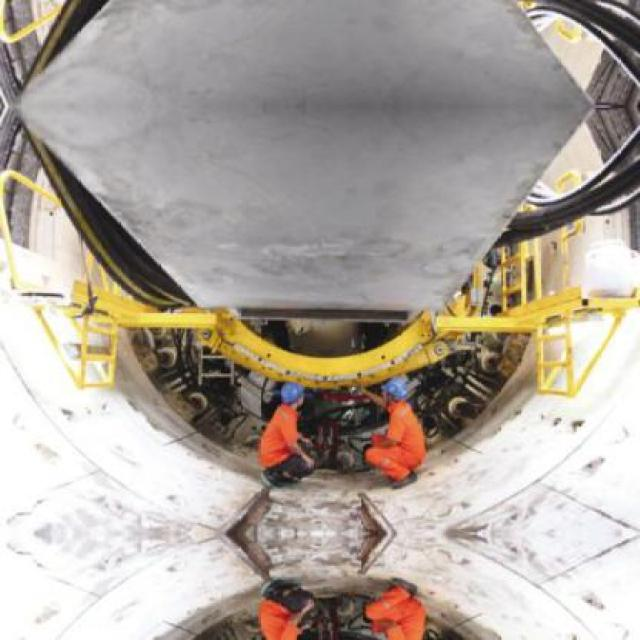helmet: (280, 379, 306, 409), (376, 378, 406, 404)
